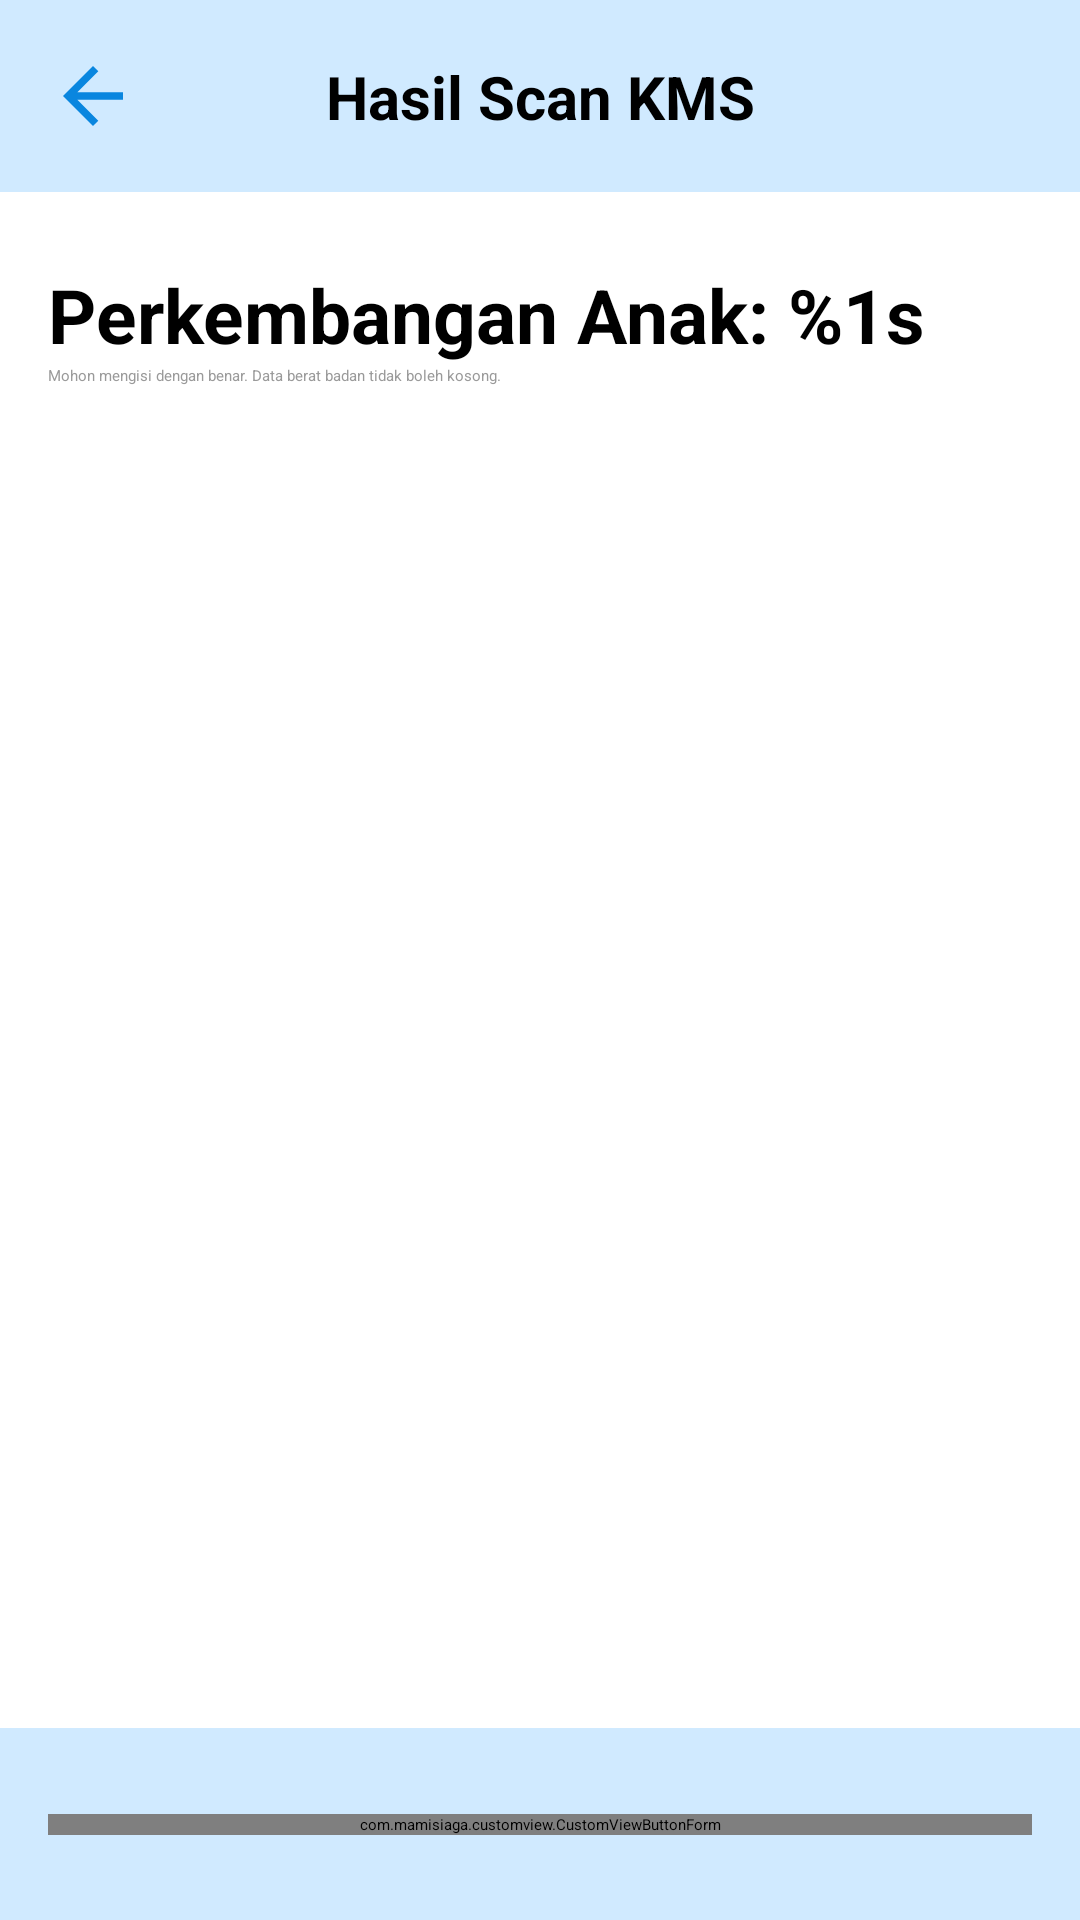

Where to tap for icons on this 1080 x 1920 app screen, as (x=x, y=y):
arrow back: (x=93, y=96)
